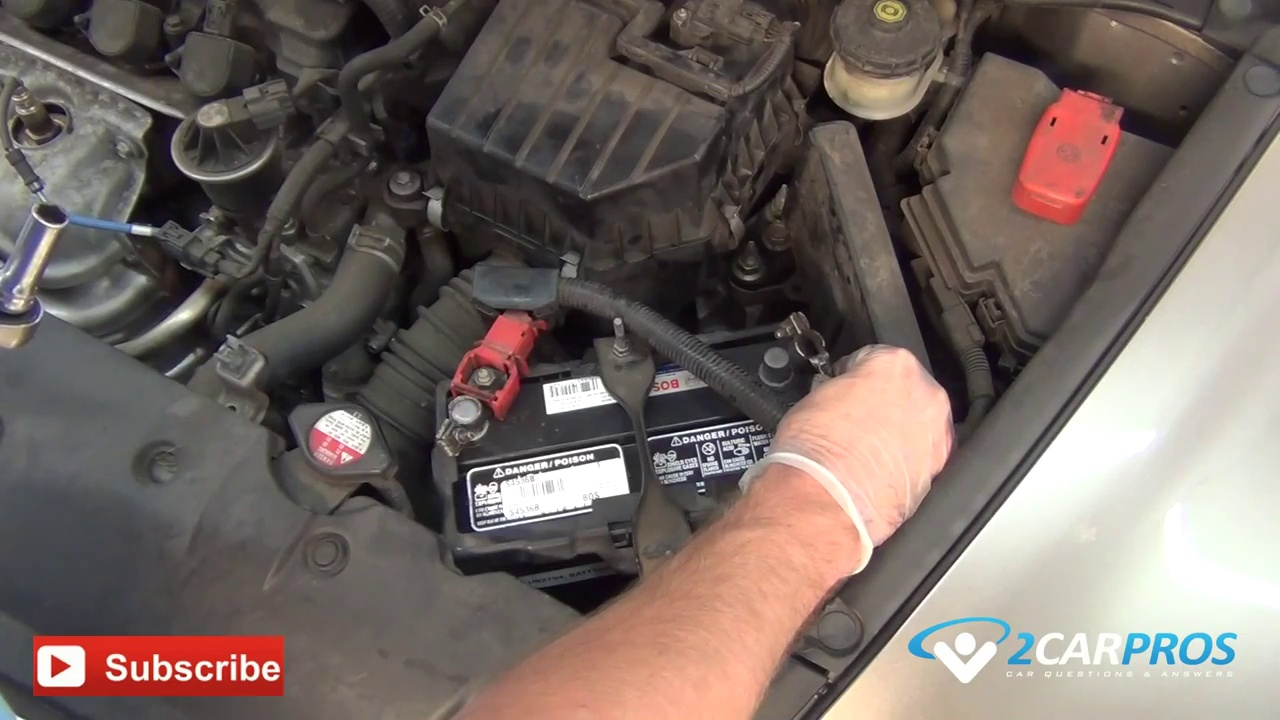battery: (436, 296, 871, 581)
neg_disconnected: (748, 296, 868, 408)
neg_touched: (753, 312, 927, 441)
pos_connected: (419, 301, 552, 454)
